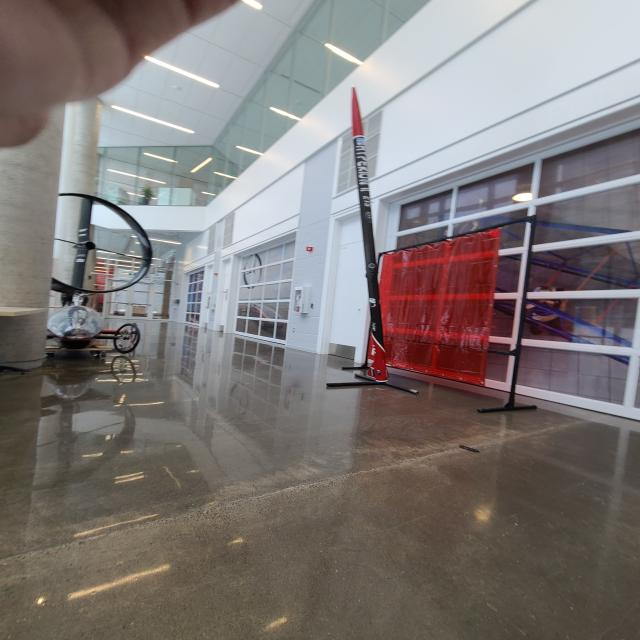Rocket: (353, 87, 390, 381)
